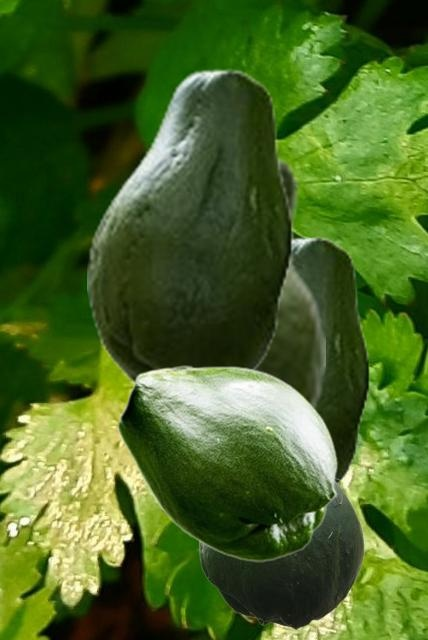sayote: (87, 68, 292, 386), (117, 365, 337, 561), (199, 478, 363, 629), (295, 236, 369, 485), (258, 149, 324, 416)
